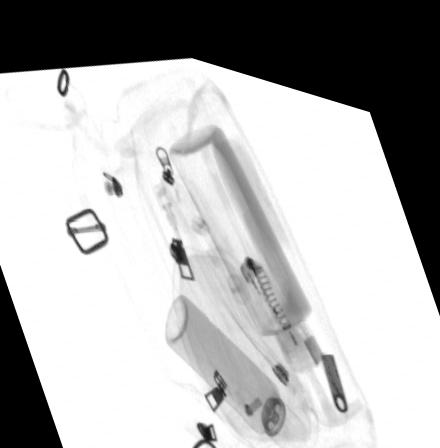Lighter: (234, 234, 309, 342)
Sprayer: (163, 282, 307, 443)
